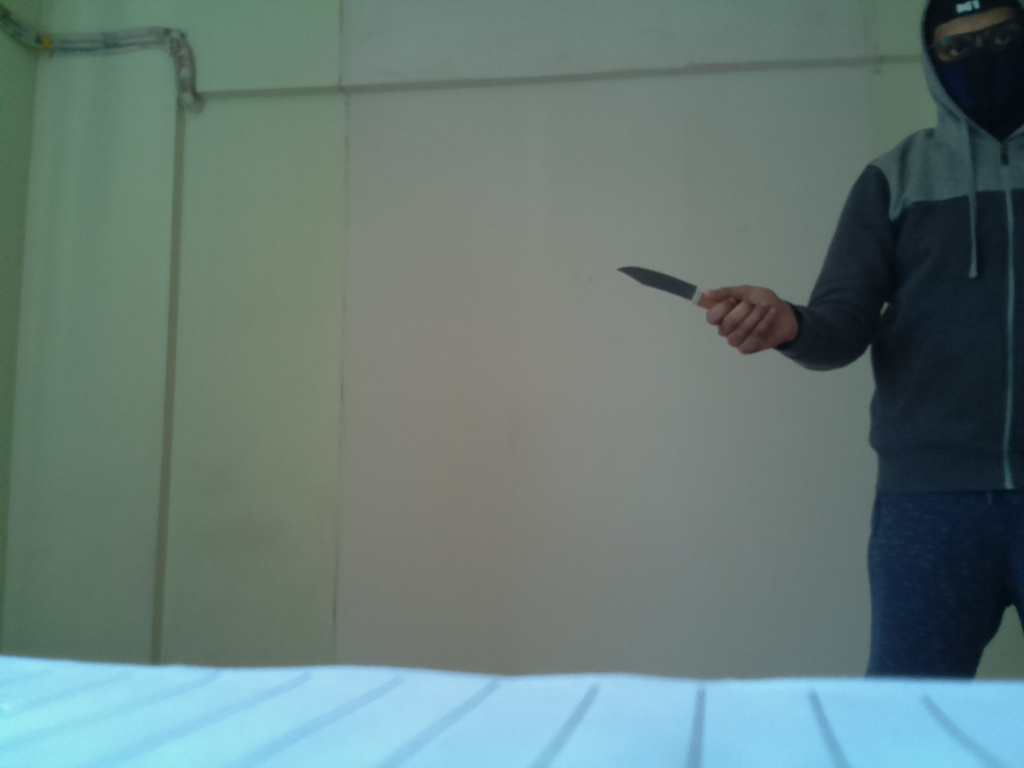knife: (601, 257, 727, 310)
